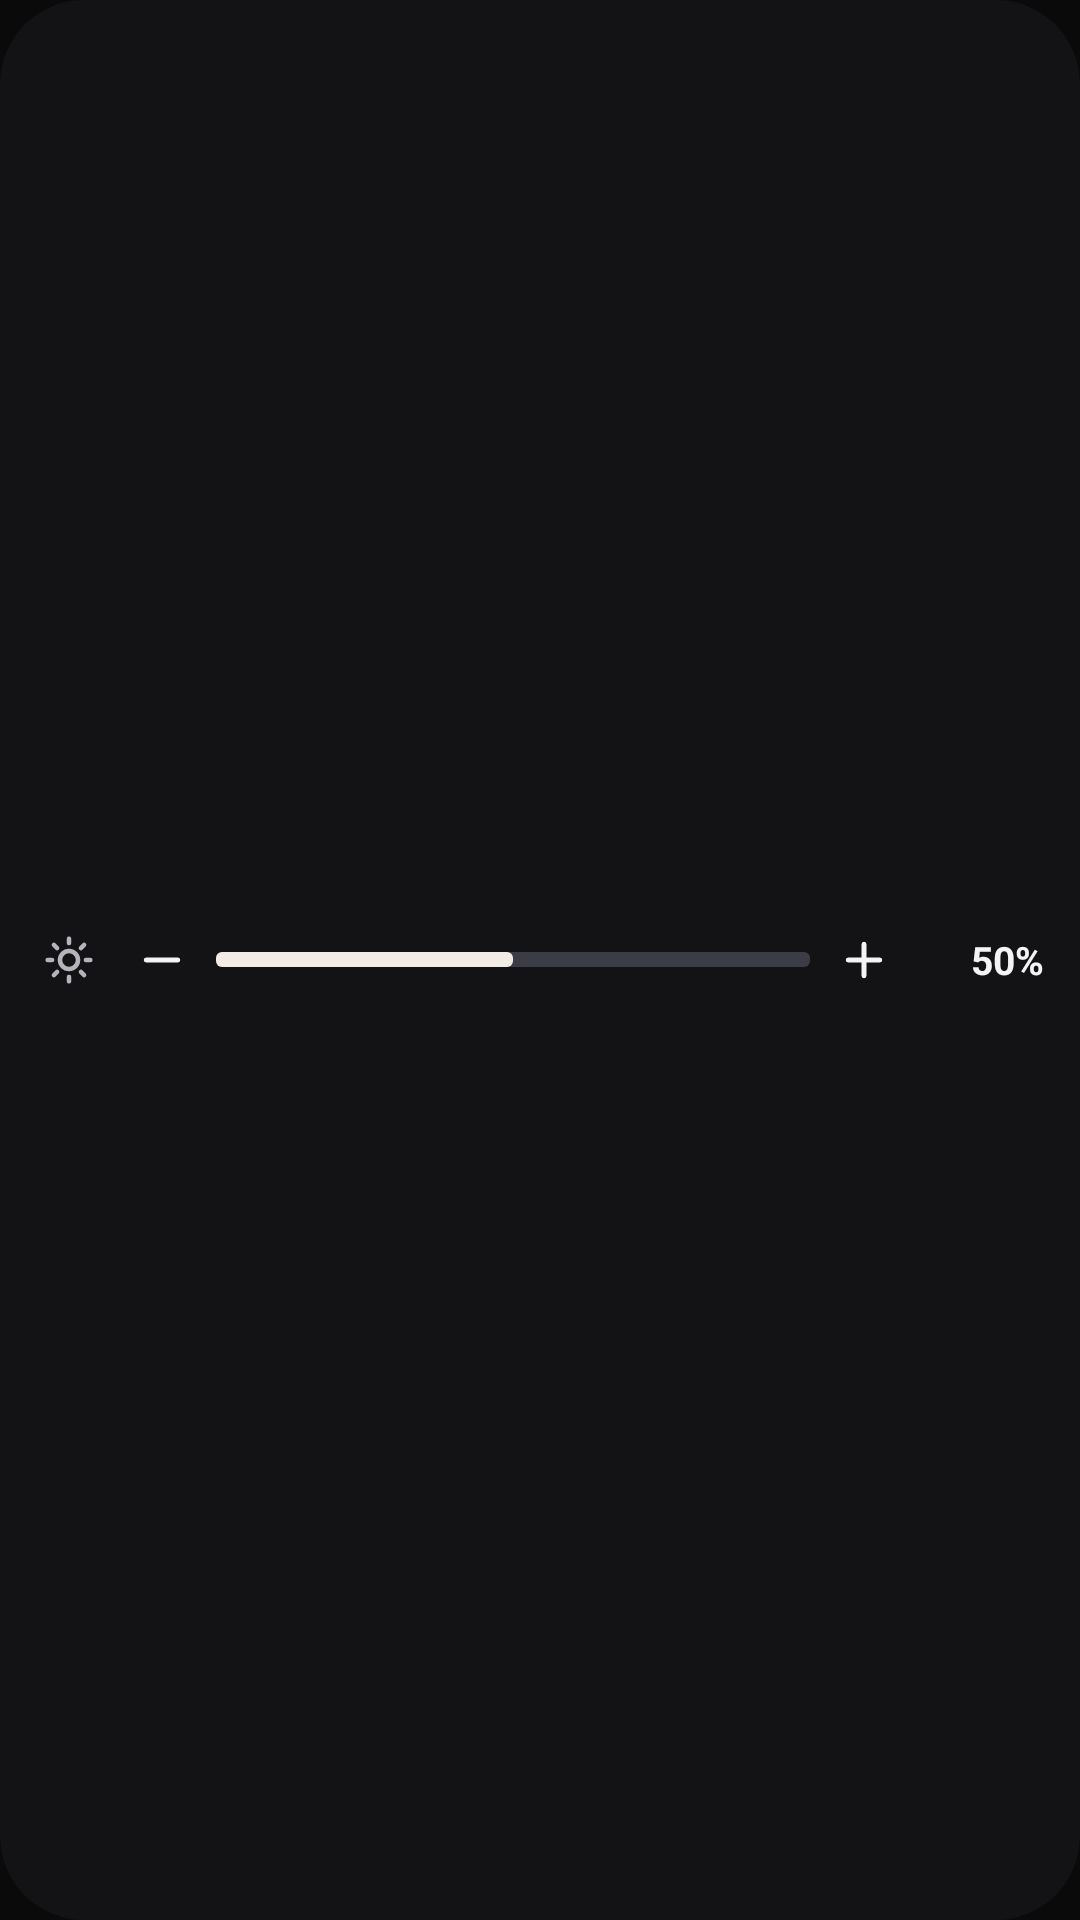

Icons on this 1080 x 1920 Android screen, each with the point to tap as point (x, y):
Lower brightness: point (162, 960)
Raise brightness: point (864, 960)
sun: point (69, 960)
